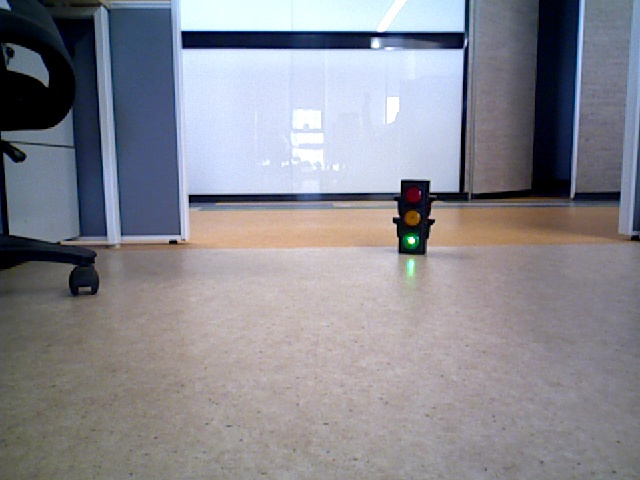green: (400, 181, 423, 248)
